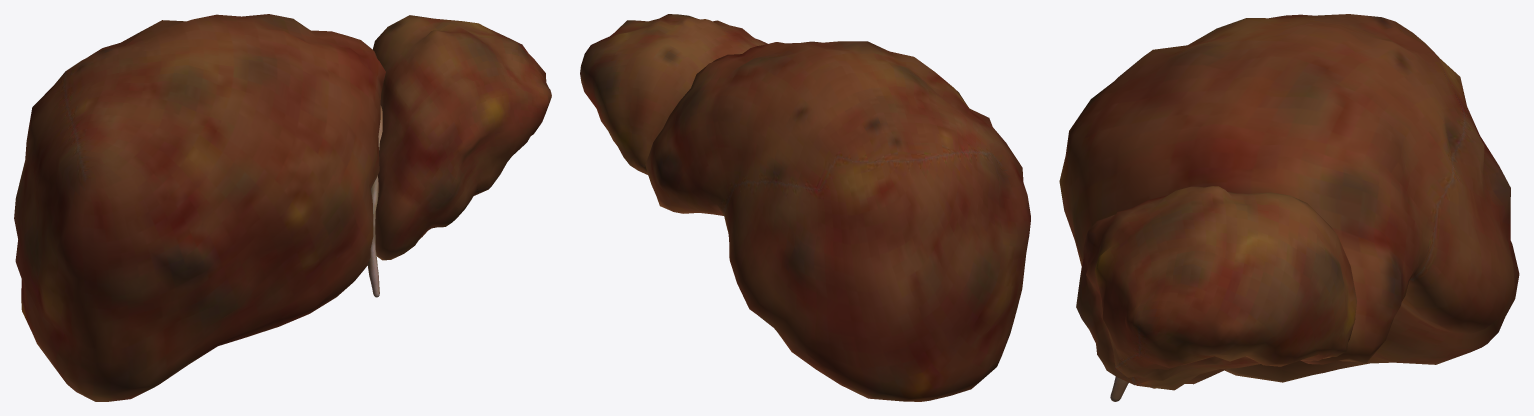
The model's file is cirrotic-liver.glb.
3 views of the same model, side by side, from view 1: azimuth 30°, elevation 25°; view 2: azimuth 150°, elevation 25°; view 3: azimuth 270°, elevation 25° (orthographic). The views are drawn at different scales.
Parts seen in each view (by area): view 1: RightLobe, LeftLobe, HeapticVein; view 2: RightLobe, LeftLobe; view 3: RightLobe, LeftLobe.
Part boxes in pixels (x1,y1,x2,y2): RightLobe: [14, 14, 385, 401]; LeftLobe: [372, 15, 551, 260]; HeapticVein: [367, 105, 382, 297]; RightLobe: [645, 41, 1030, 401]; LeftLobe: [580, 14, 767, 174]; RightLobe: [1059, 14, 1519, 384]; LeftLobe: [1076, 186, 1356, 390].
Size of the model in its own units: 0.671 by 0.4421 by 0.4342.
Materials: 3 (3 with a texture image).
